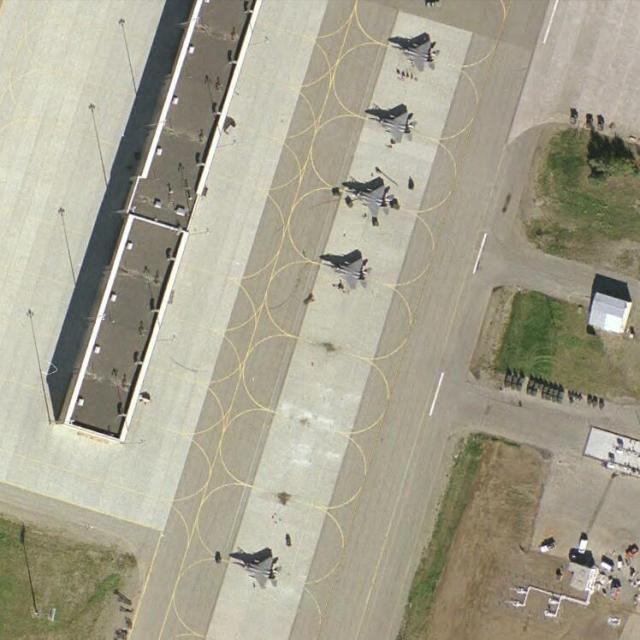fighter jet: (385, 24, 441, 72), (342, 179, 400, 220), (234, 552, 283, 592), (325, 253, 374, 292), (370, 107, 414, 142)
